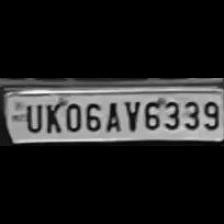0: (62, 100, 82, 132)
3: (180, 97, 200, 131), (162, 97, 180, 131)
6: (140, 97, 160, 131), (82, 99, 102, 131)
9: (200, 97, 220, 129)
A: (102, 98, 122, 132)
K: (42, 100, 62, 134)
U: (22, 100, 42, 132)
Y: (121, 96, 139, 132)
